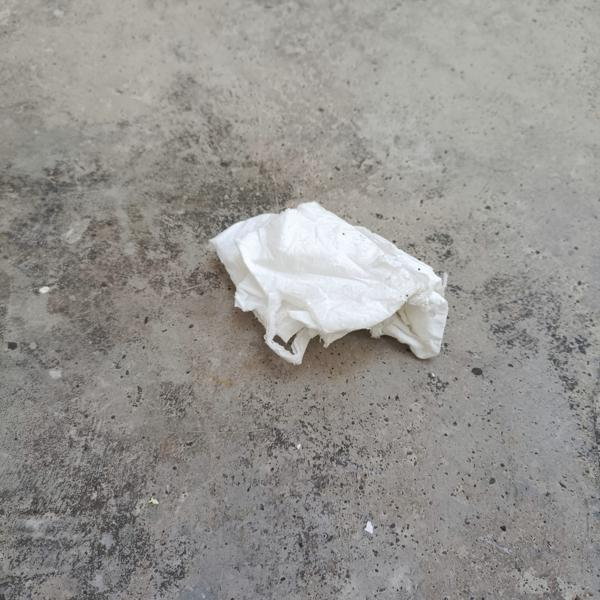Organik: (187, 180, 479, 381)
